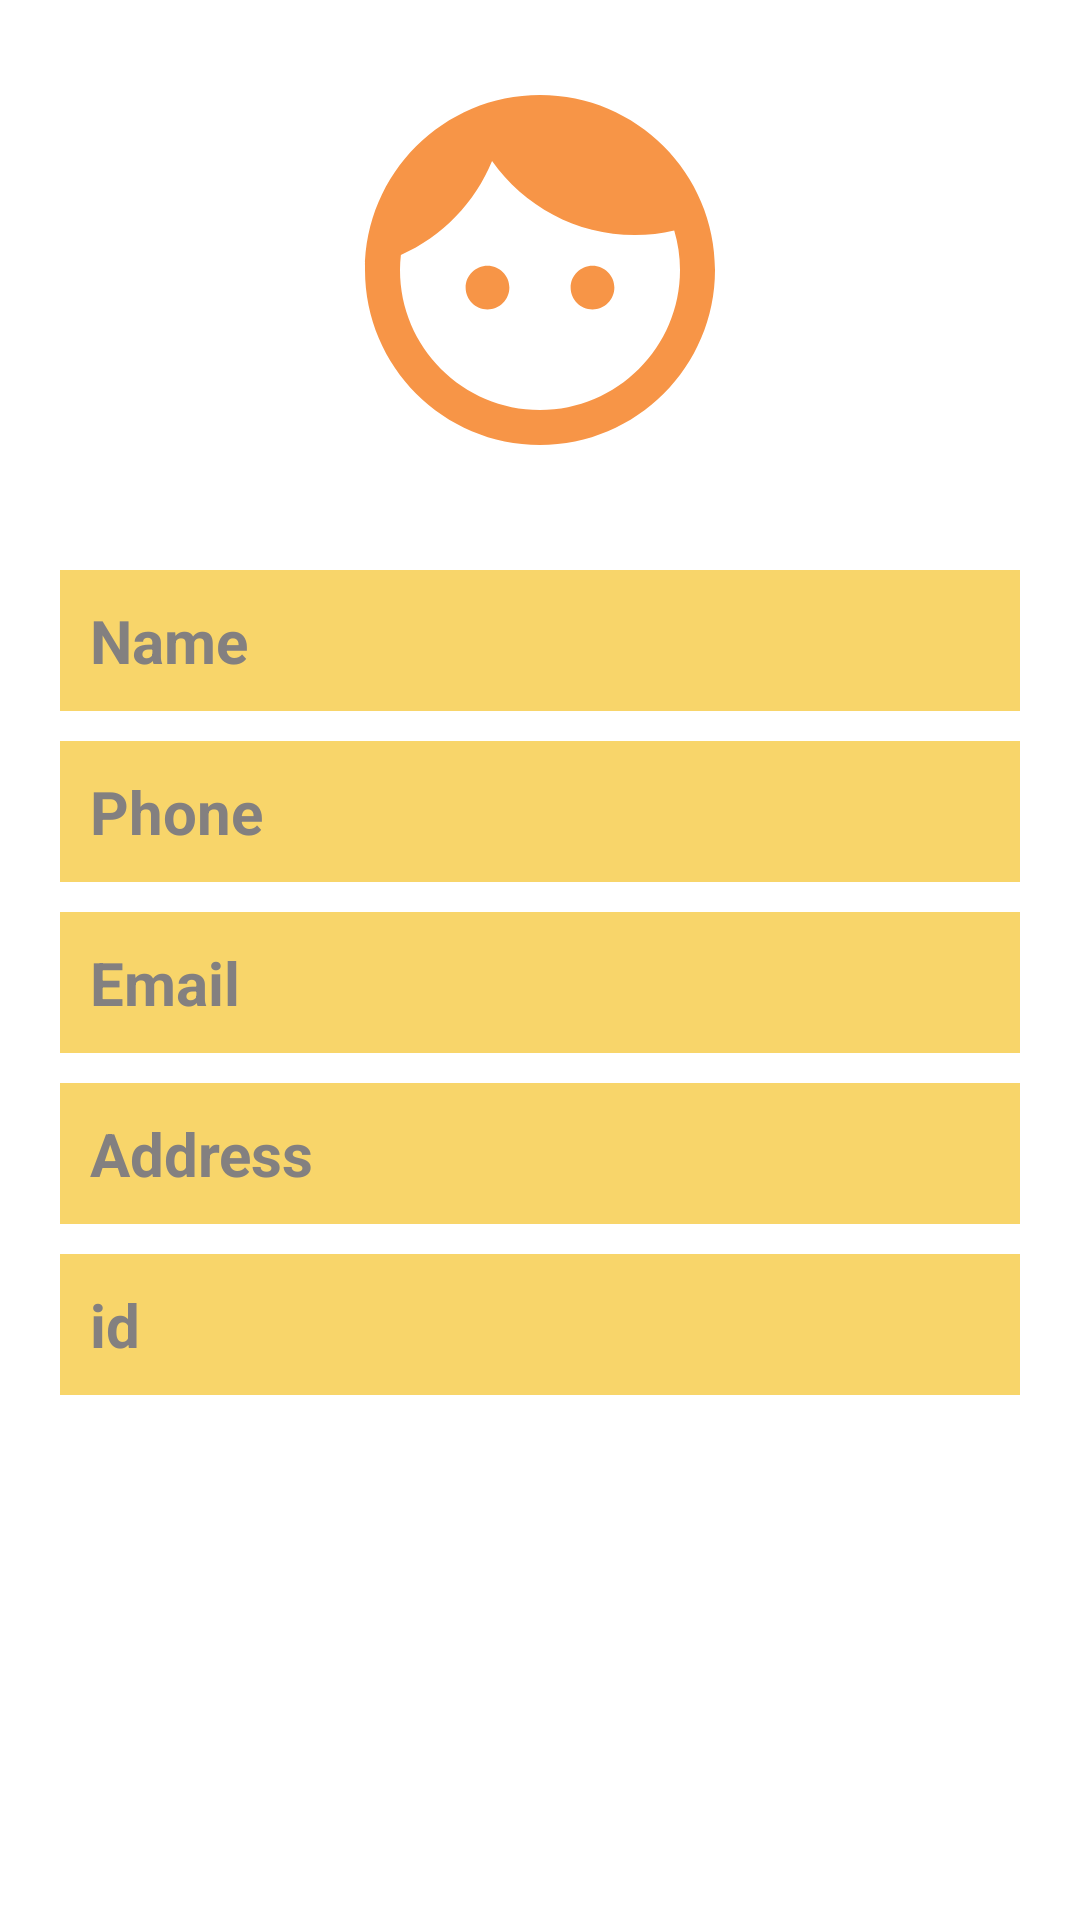

Named icons in this screenshot (1080px×1920px) and their bounding boxes, (x1,y1,x2,y2):
profile: (365,95,715,445)
